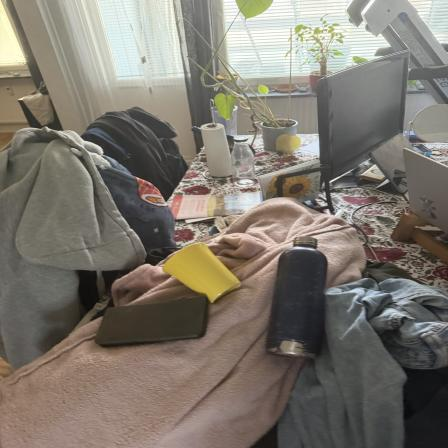blue_bottle: (272, 237, 332, 361)
phone: (98, 301, 211, 343)
yellow_cup: (155, 242, 248, 301)
